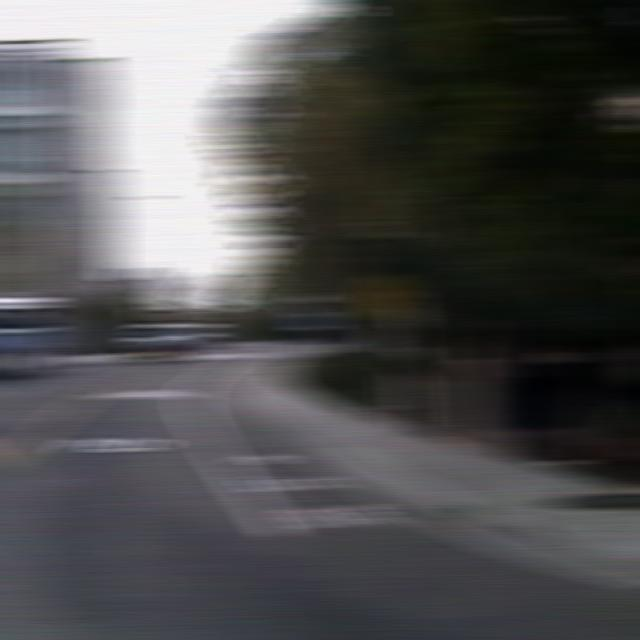pedestrianCrossing: (354, 270, 406, 318)
